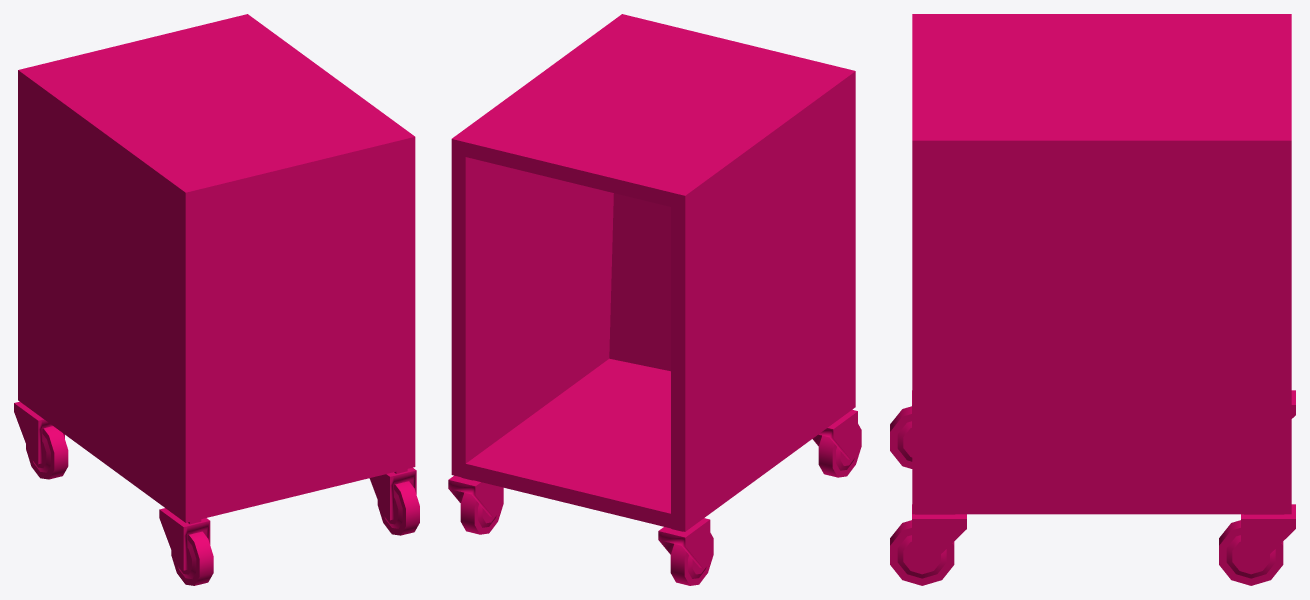
Rendered from Desk_02_Moving_Drawer.fbx.
The picture shows the model from 3 angles, left to right: view 1: azimuth 30°, elevation 25°; view 2: azimuth 150°, elevation 25°; view 3: azimuth 270°, elevation 25°; orthographic projection. The views are drawn at different scales.
Parts seen in each view (by area): view 1: Desk_02_Moving_Drawer; view 2: Desk_02_Moving_Drawer; view 3: Desk_02_Moving_Drawer.
Part boxes in pixels (x1=…): Desk_02_Moving_Drawer: x1=14, y1=14, x2=419, y2=585; Desk_02_Moving_Drawer: x1=448, y1=14, x2=861, y2=585; Desk_02_Moving_Drawer: x1=890, y1=14, x2=1295, y2=585.
Size of the model in its own units: 40.55 by 65.93 by 54.12.
